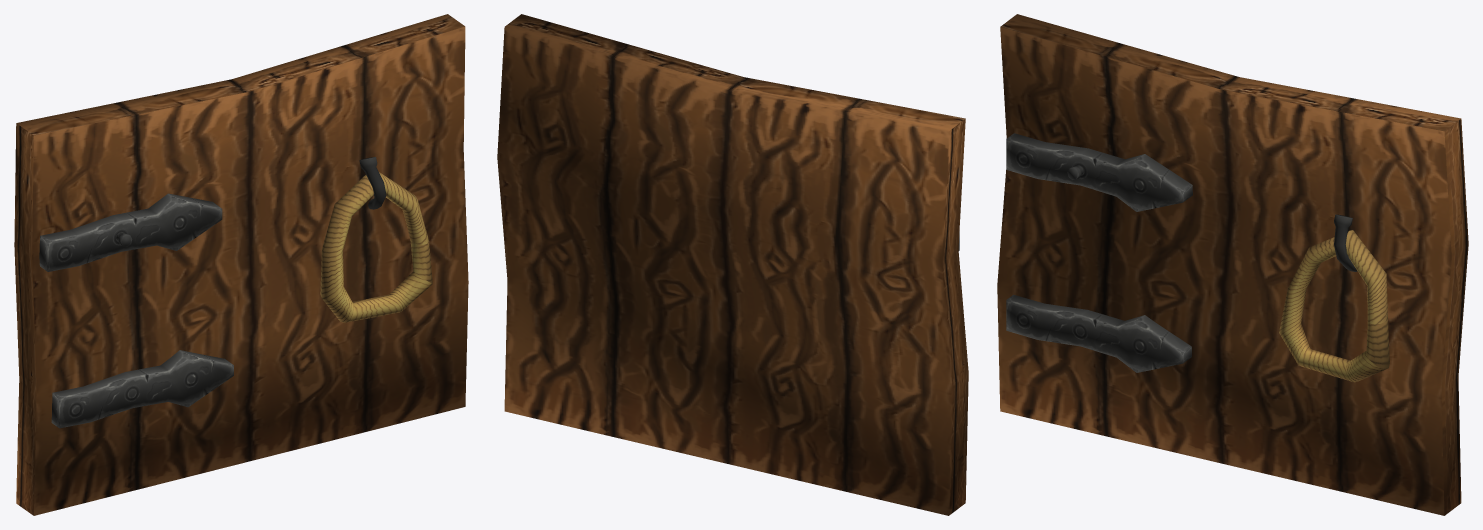
The model's file is door_barn2.fbx.
3 renders of one model, left to right at view 1: azimuth 30°, elevation 25°; view 2: azimuth 150°, elevation 25°; view 3: azimuth 330°, elevation 25°, orthographic.
Parts seen in each view (by area): view 1: door_barn2; view 2: door_barn2; view 3: door_barn2.
Part boxes in pixels (<box>): door_barn2: <box>14,14,468,515</box>; door_barn2: <box>497,14,968,515</box>; door_barn2: <box>997,14,1468,515</box>.
Bounding box in the file's own units: 103 × 85.2 × 15.89.
